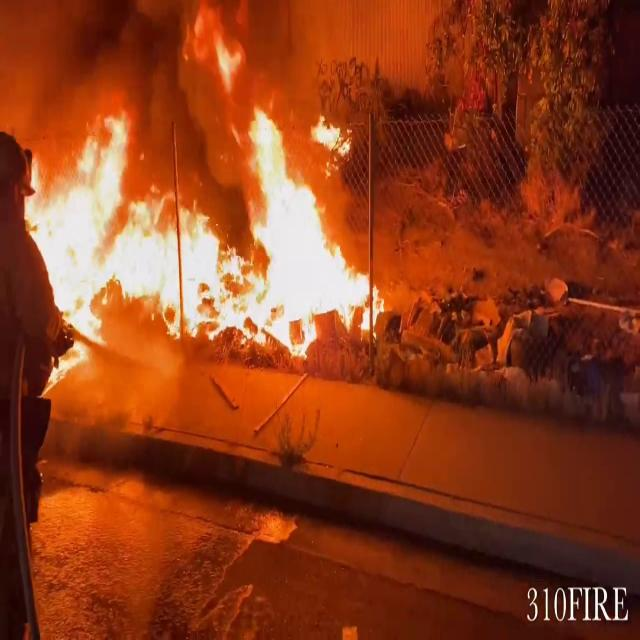Fire: (18, 6, 386, 366)
